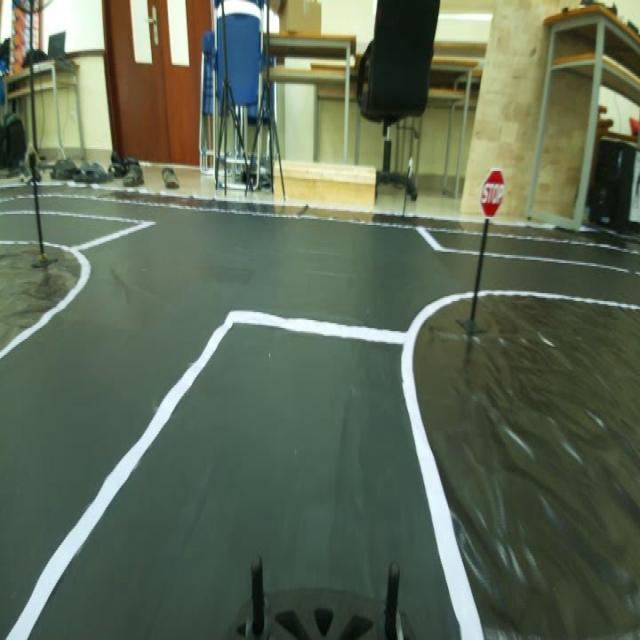stop: (480, 165, 512, 228)
